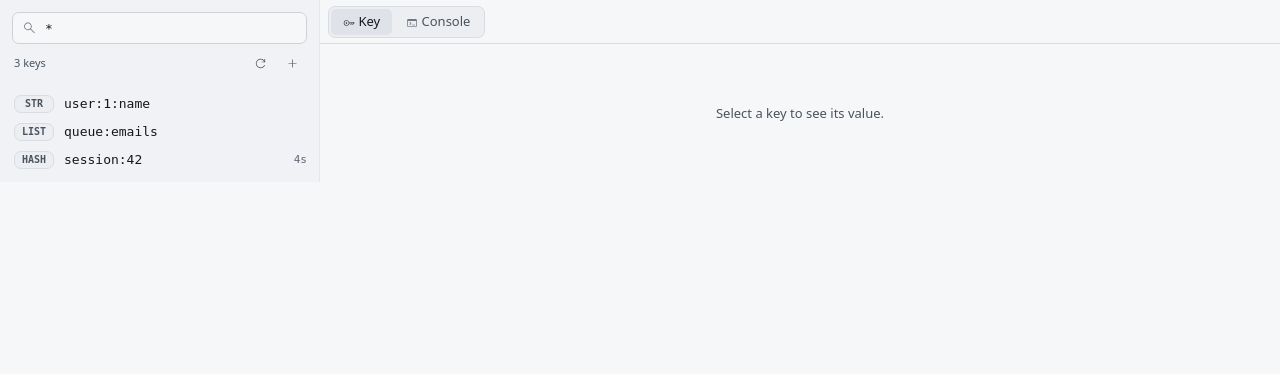
Test case: RedisView › opening keys › shows binary and truncated strings read-only
What coordinates should you click on to do the following:
click the option "STR user:1:name"
I would click on:
 (34, 104)
Its box is [6, 90, 313, 118].
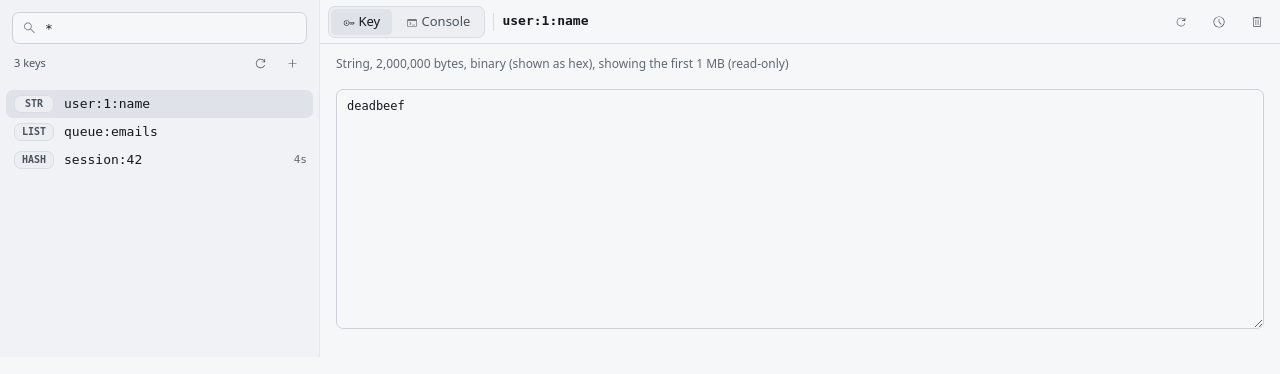
Check: the text "binary (shown as hex)" is shown, box [464, 55, 592, 72]
Check: the text "showing the first 1 MB (read-only)" is shown, box [592, 55, 788, 72]
